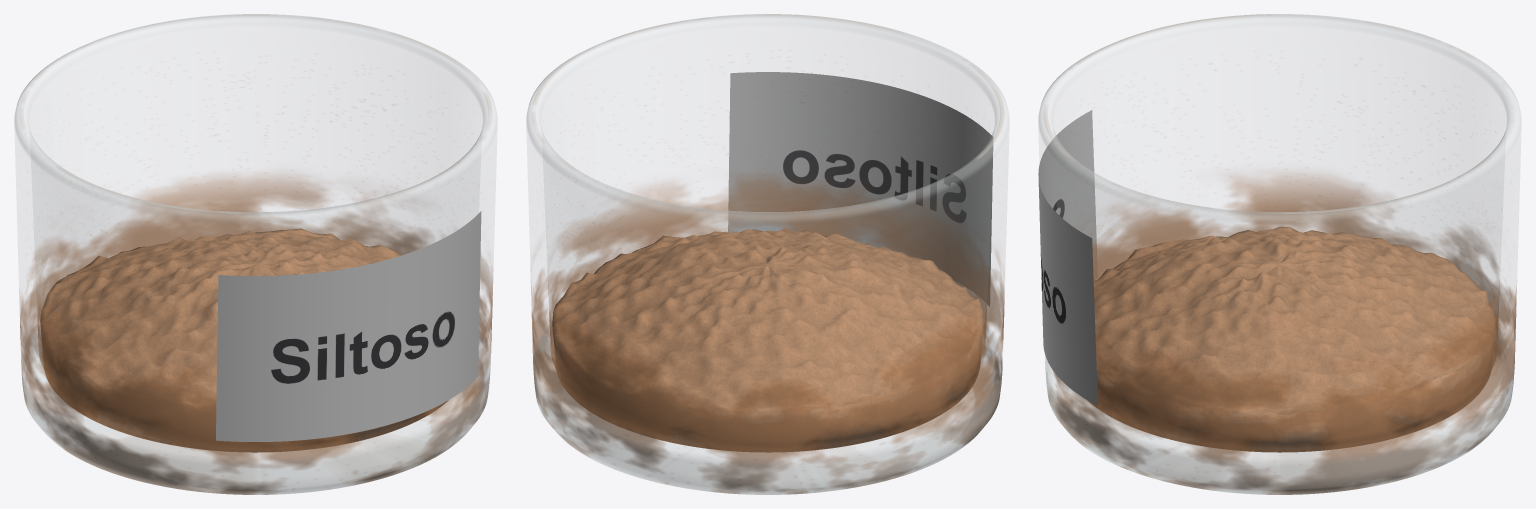
File: copo_05_03_siltoso.glb
The picture shows the model from 3 angles, left to right: view 1: azimuth 30°, elevation 25°; view 2: azimuth 150°, elevation 25°; view 3: azimuth 270°, elevation 25°; orthographic projection.
Visible parts, largest first — view 1: vidro_copo_siltoso, etiqueta_siltoso, solo_siltoso; view 2: vidro_copo_siltoso, solo_siltoso, etiqueta_siltoso; view 3: vidro_copo_siltoso, solo_siltoso, etiqueta_siltoso.
Part boxes in pixels (box(x1,y1,x2,y2)): vidro_copo_siltoso: box(14, 14, 497, 494); etiqueta_siltoso: box(216, 211, 481, 441); solo_siltoso: box(40, 228, 448, 452); vidro_copo_siltoso: box(526, 14, 1009, 494); solo_siltoso: box(552, 227, 983, 452); etiqueta_siltoso: box(728, 72, 993, 306); vidro_copo_siltoso: box(1038, 14, 1521, 494); solo_siltoso: box(1087, 226, 1495, 452); etiqueta_siltoso: box(1038, 110, 1097, 405).
Size of the model in its own units: 0.0699 by 0.046 by 0.0699.
3 materials, 3 textured.
